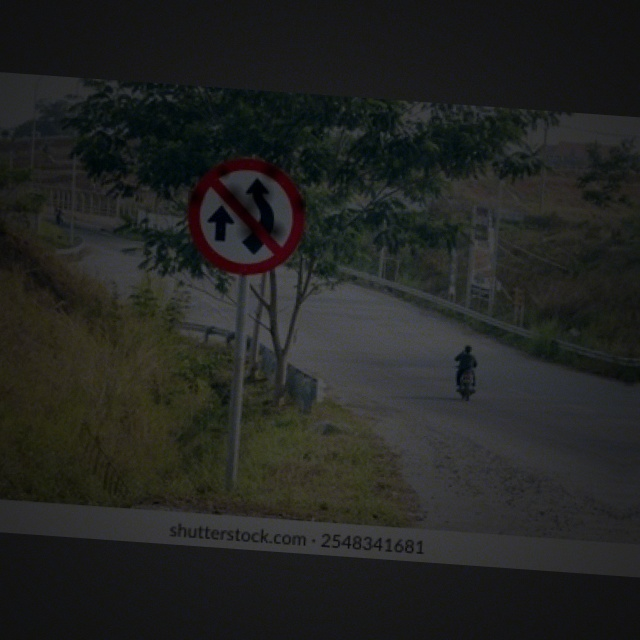Overtaking_Prohibited: (188, 153, 306, 277)
